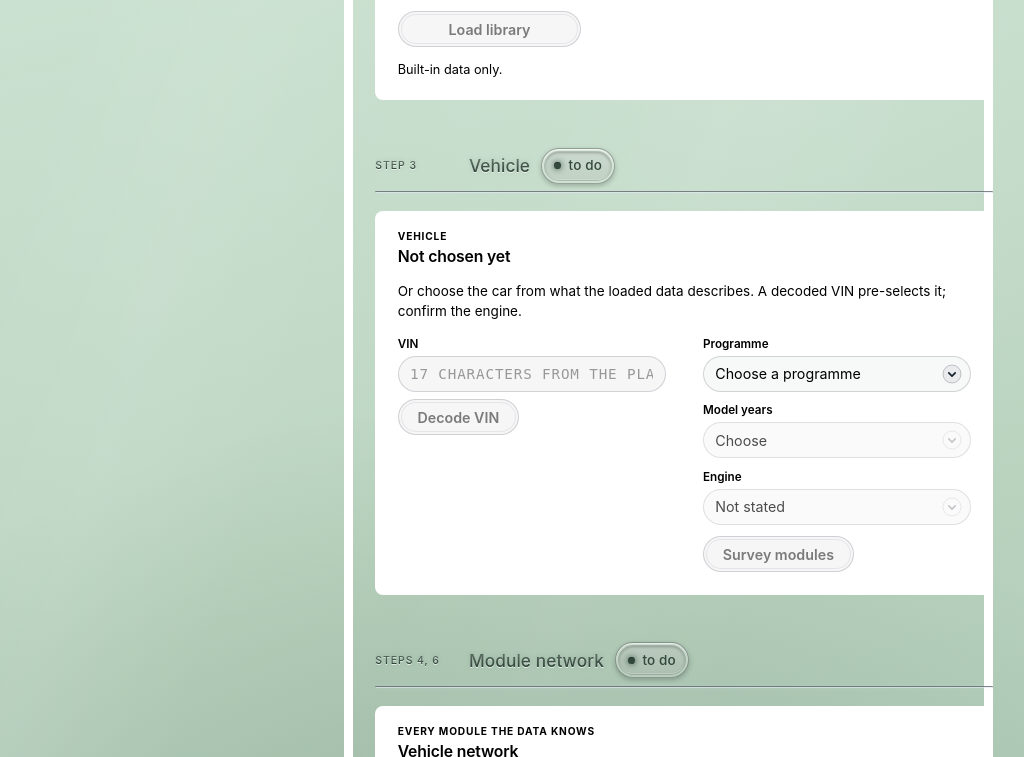
it: data library and module survey › decodes a VIN with the library's tables and pre-selects the vehicle
The width and height of the screenshot is (1024, 757).
(page scrolled)
Expected: the dropdown labelled "Programme" is shown, left=703, top=356, right=971, bottom=392
Expected: the button "Decode VIN" is disabled, left=398, top=399, right=519, bottom=435
Type "syn a102xb9ab12345" into the field labelled "VIN".
click(532, 374); type("syn a102xb9ab12345")  # box left=398, top=356, right=666, bottom=392
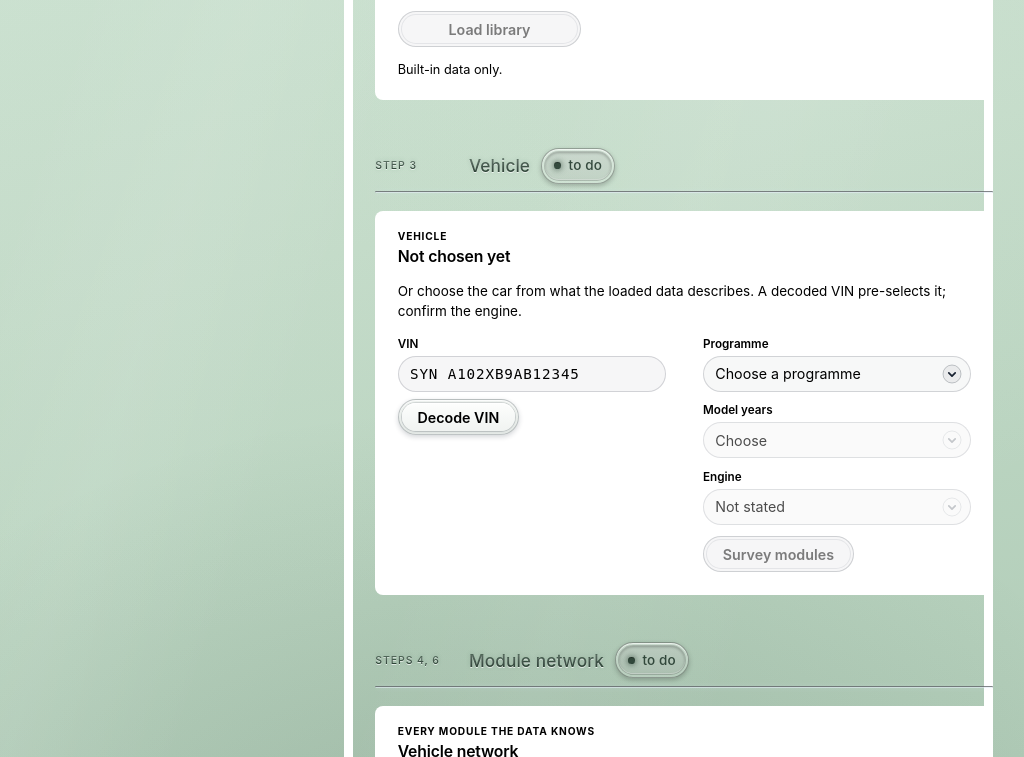
Now the button "Decode VIN" is enabled
Click the button "Decode VIN".
click(458, 417)  # box left=398, top=399, right=519, bottom=435
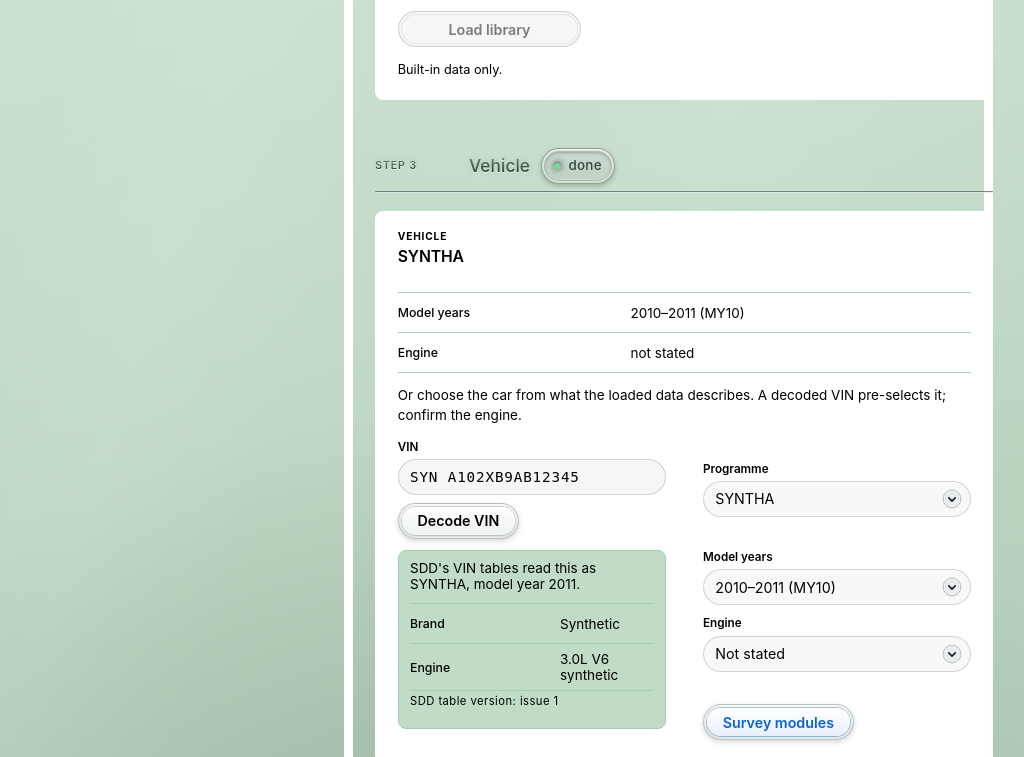
Now the text "SDD's VIN tables read this as SYNTHA, model year 2011." is shown, box left=410, top=560, right=596, bottom=592
Now the text "3.0L V6 synthetic" is shown, box left=560, top=651, right=618, bottom=683
Now the dropdown labelled "Programme" shows "SYNTHA", box left=703, top=481, right=971, bottom=517
